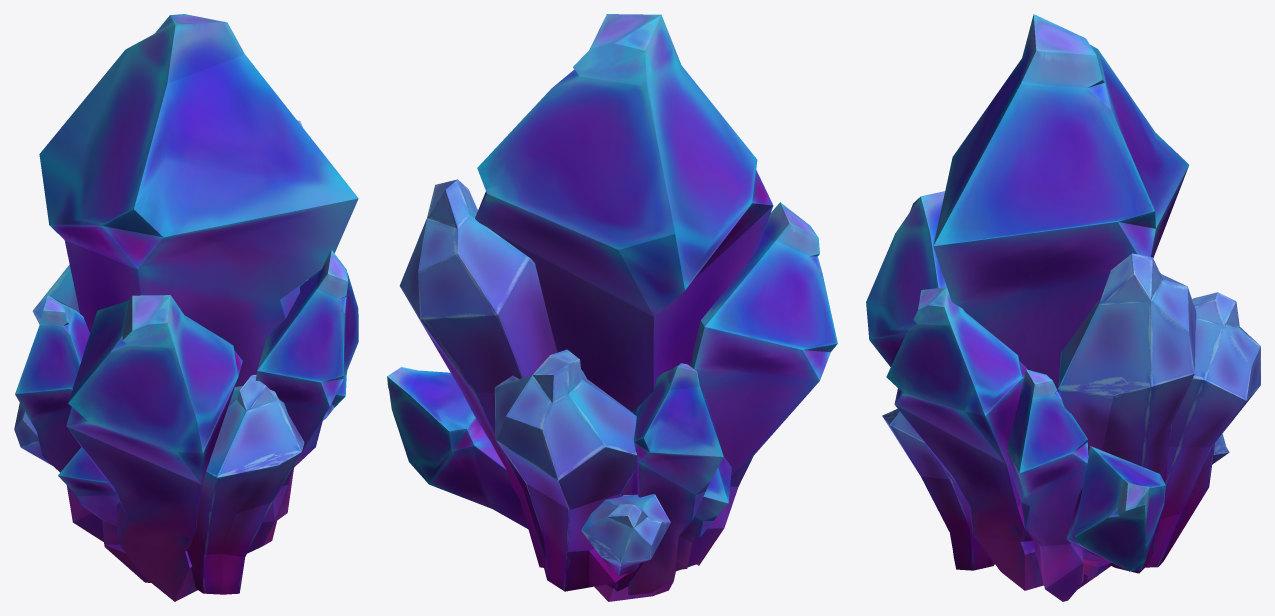
File: crystal.fbx
3 views of the same model, side by side, from view 1: azimuth 30°, elevation 25°; view 2: azimuth 150°, elevation 25°; view 3: azimuth 270°, elevation 25° (orthographic).
Visible parts, largest first — view 1: Cube.005; view 2: Cube.005; view 3: Cube.005.
Part boxes in pixels (x1,y1,x2,y2): Cube.005: [14, 14, 358, 601]; Cube.005: [387, 14, 837, 601]; Cube.005: [866, 14, 1260, 601].
Size of the model in its own units: 499 by 737 by 472.
